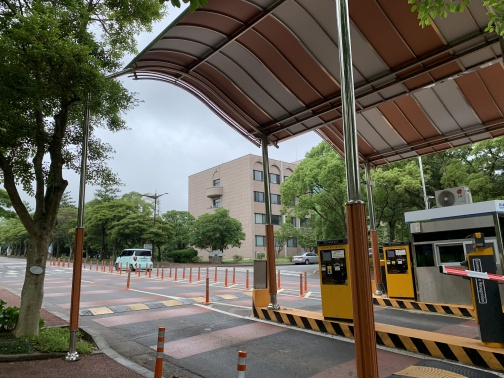Natural Science2: (181, 149, 307, 263)
